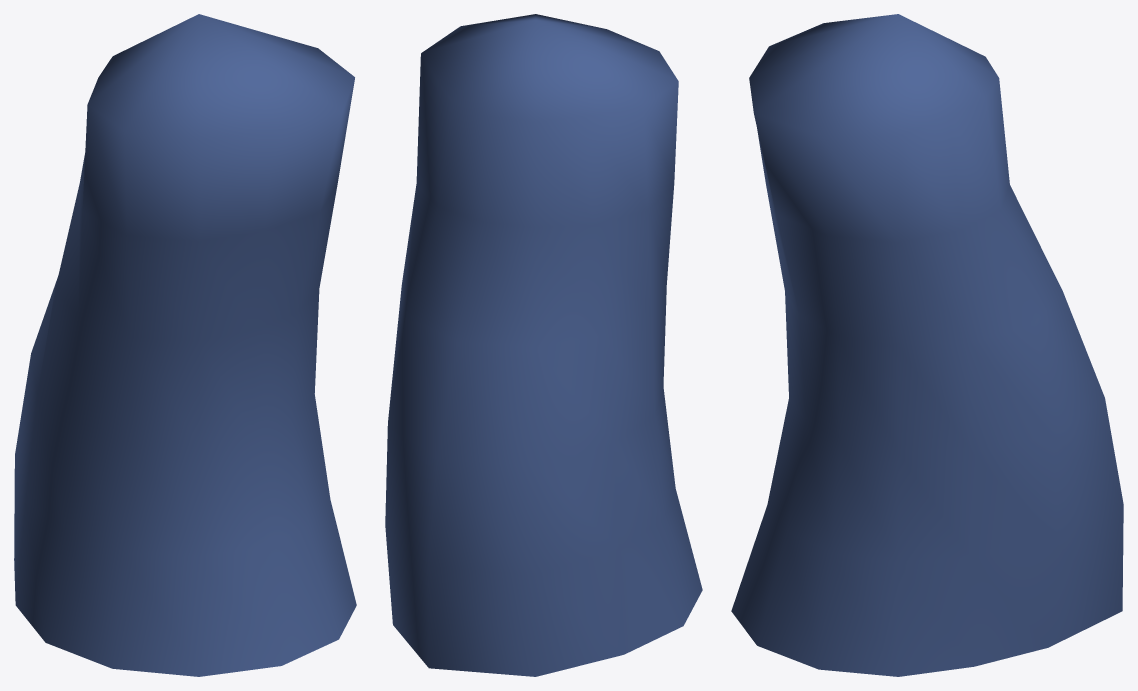
The model's file is spectre_armor_boot.L.glb.
The picture shows the model from 3 angles, left to right: view 1: azimuth 30°, elevation 25°; view 2: azimuth 150°, elevation 25°; view 3: azimuth 270°, elevation 25°; orthographic projection. The views are drawn at different scales.
Parts seen in each view (by area): view 1: spectre_armor_boot.L; view 2: spectre_armor_boot.L; view 3: spectre_armor_boot.L.
Part boxes in pixels (x1=…): spectre_armor_boot.L: x1=14, y1=14, x2=356, y2=676; spectre_armor_boot.L: x1=385, y1=14, x2=702, y2=676; spectre_armor_boot.L: x1=731, y1=14, x2=1123, y2=676.
Bounding box in the file's own units: 0.1461 × 0.288 × 0.1715.
